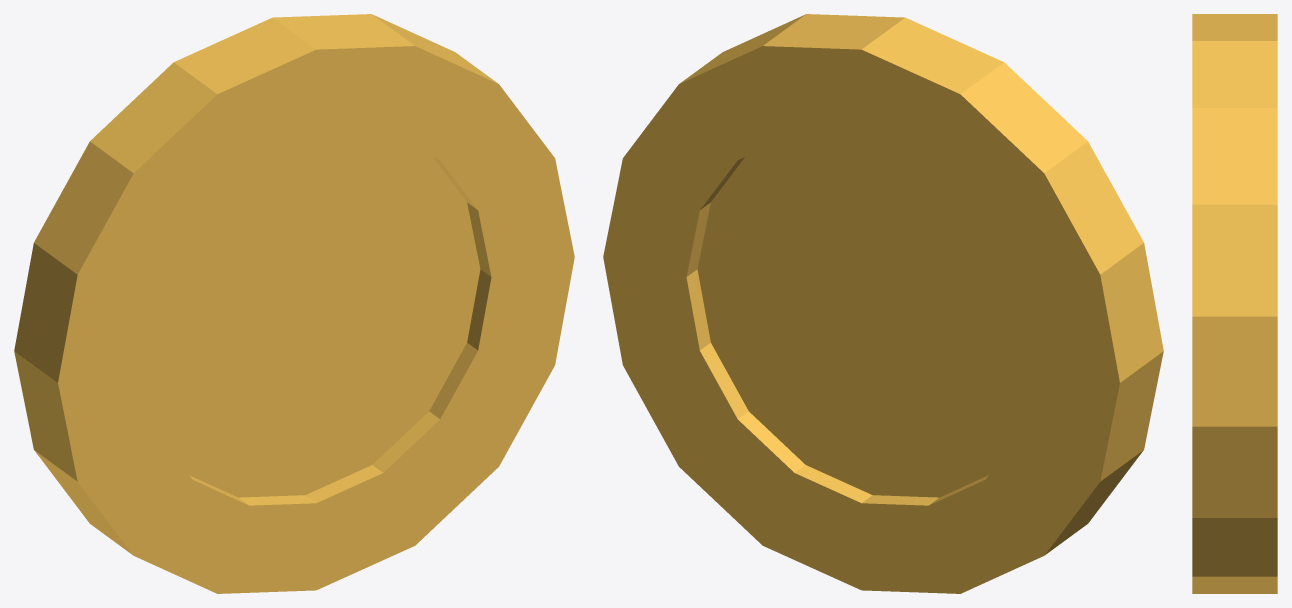
Rendered from coin.fbx.
The picture shows the model from 3 angles, left to right: view 1: azimuth 30°, elevation 25°; view 2: azimuth 150°, elevation 25°; view 3: azimuth 270°, elevation 25°; orthographic projection. The views are drawn at different scales.
Visible parts, largest first — view 1: coin; view 2: coin; view 3: coin.
Part boxes in pixels (x1,y1,x2,y2): coin: (14,14,574,593); coin: (603,14,1163,593); coin: (1192,14,1277,593).
Size of the model in its own units: 0.1811 by 1.23 by 1.23.
